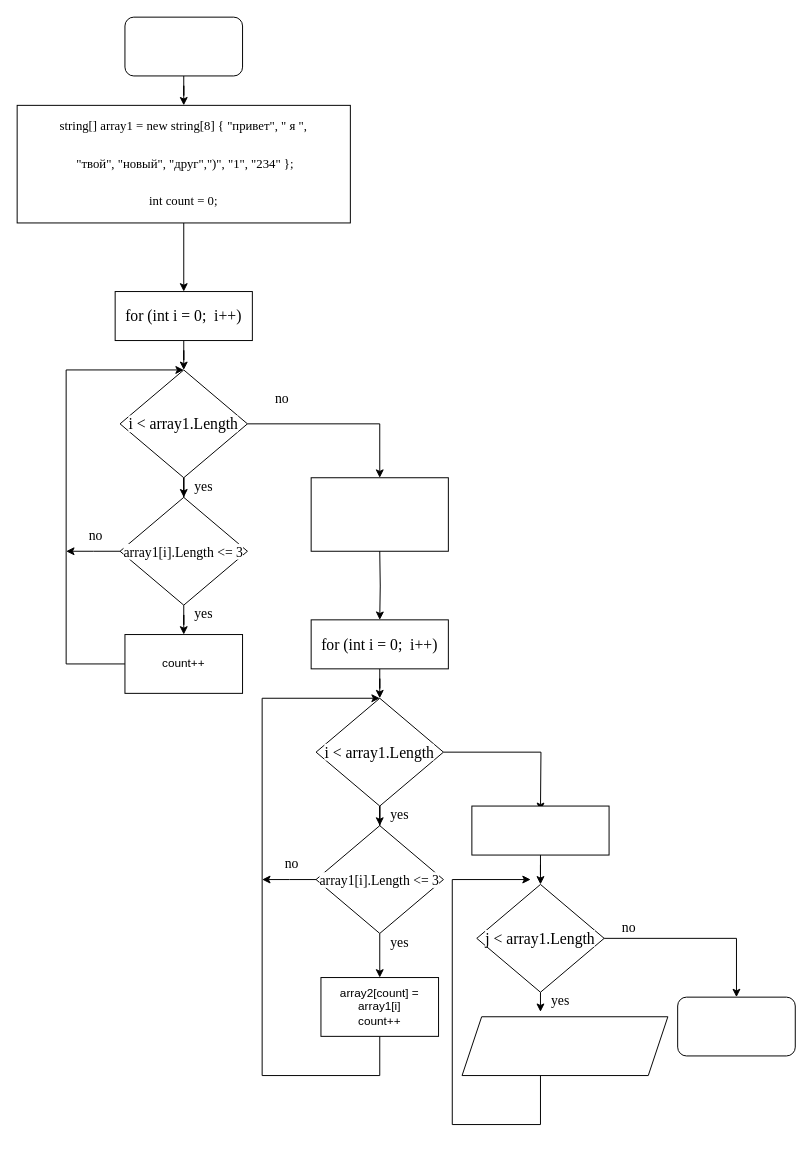
Some shapes in this 812 by 1150 pixel diagram are drawn without their labels. Here are the shapes that lost their labels. From the top down, the centre of each, then its label:
At [183,46]: "start".
At [379,514]: "string[] array2=new string[count] count=0".
At [540,830]: "for (int j = 0; j++)".
At [564,1046]: "Console.WriteLine(array2[j])".
At [736,1026]: "end".
